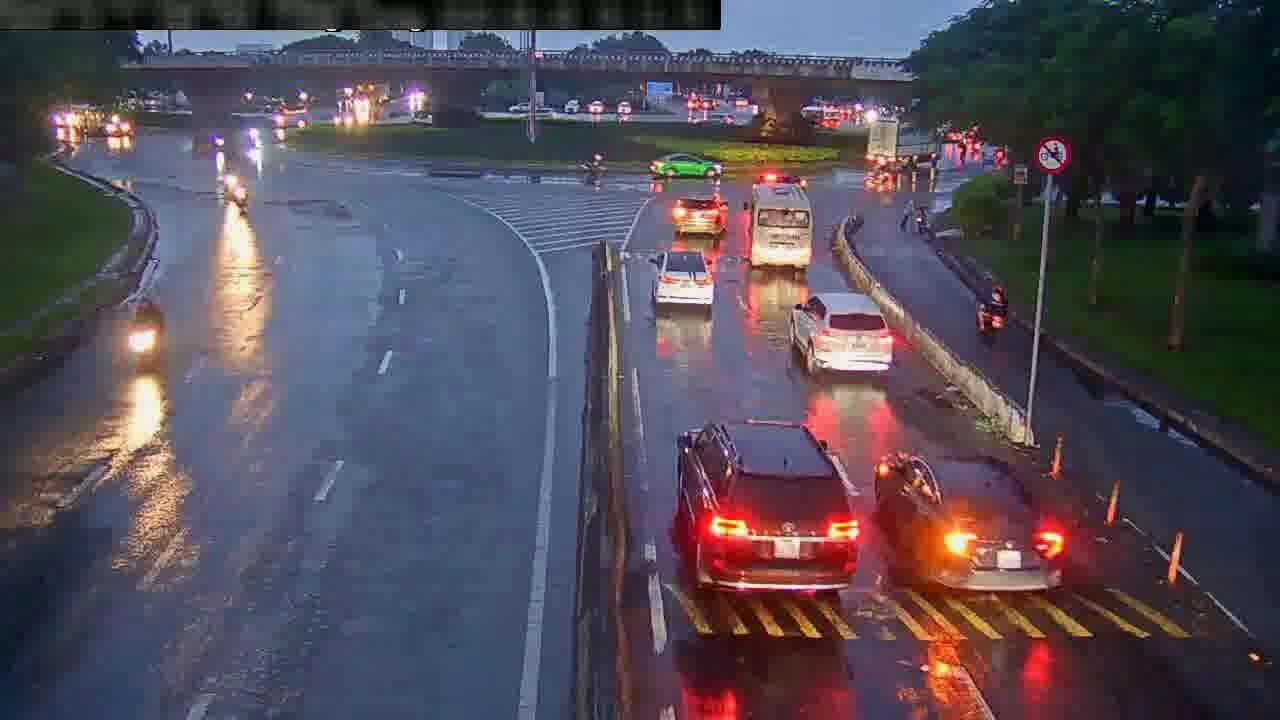14: (746, 180, 811, 275)
container: (674, 419, 862, 600), (873, 450, 1066, 602), (786, 296, 890, 380), (648, 250, 721, 313), (669, 189, 726, 235), (647, 152, 721, 182)
motorbike: (129, 294, 164, 365), (975, 278, 1009, 345)
